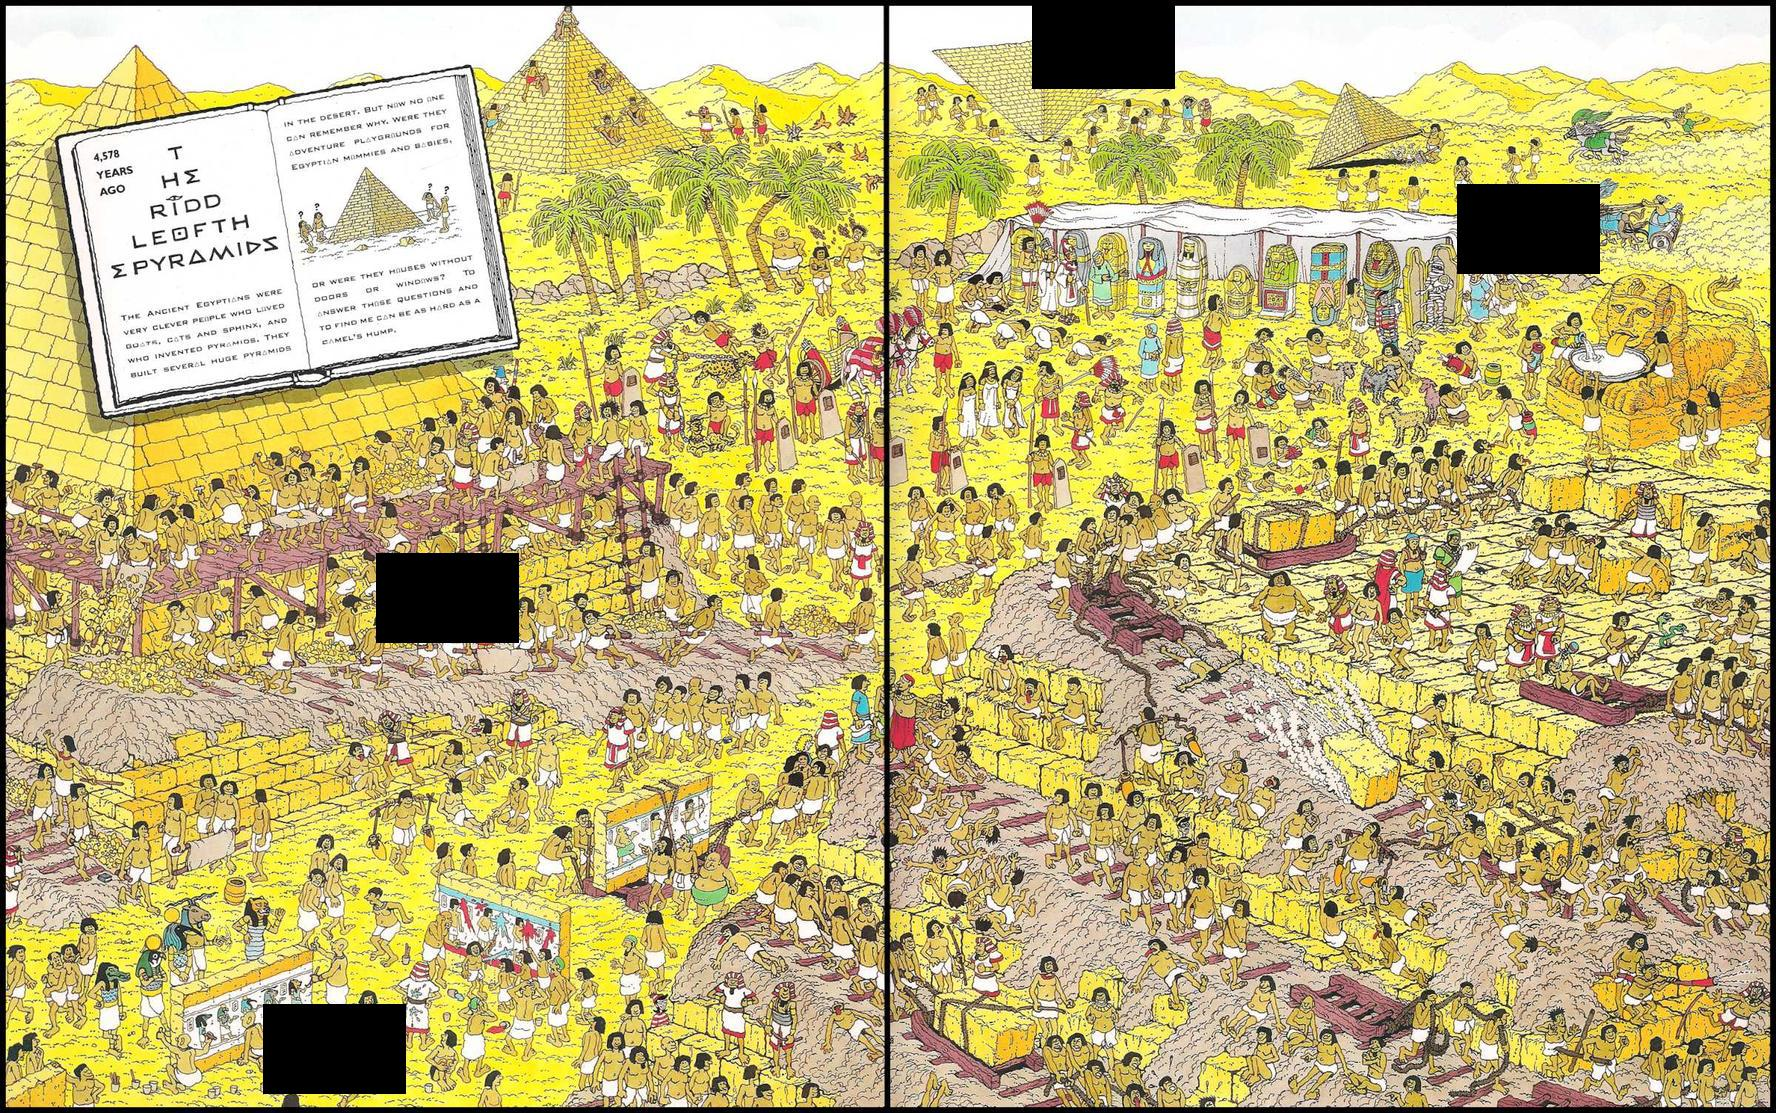waldo: (1375, 286, 1400, 339)
